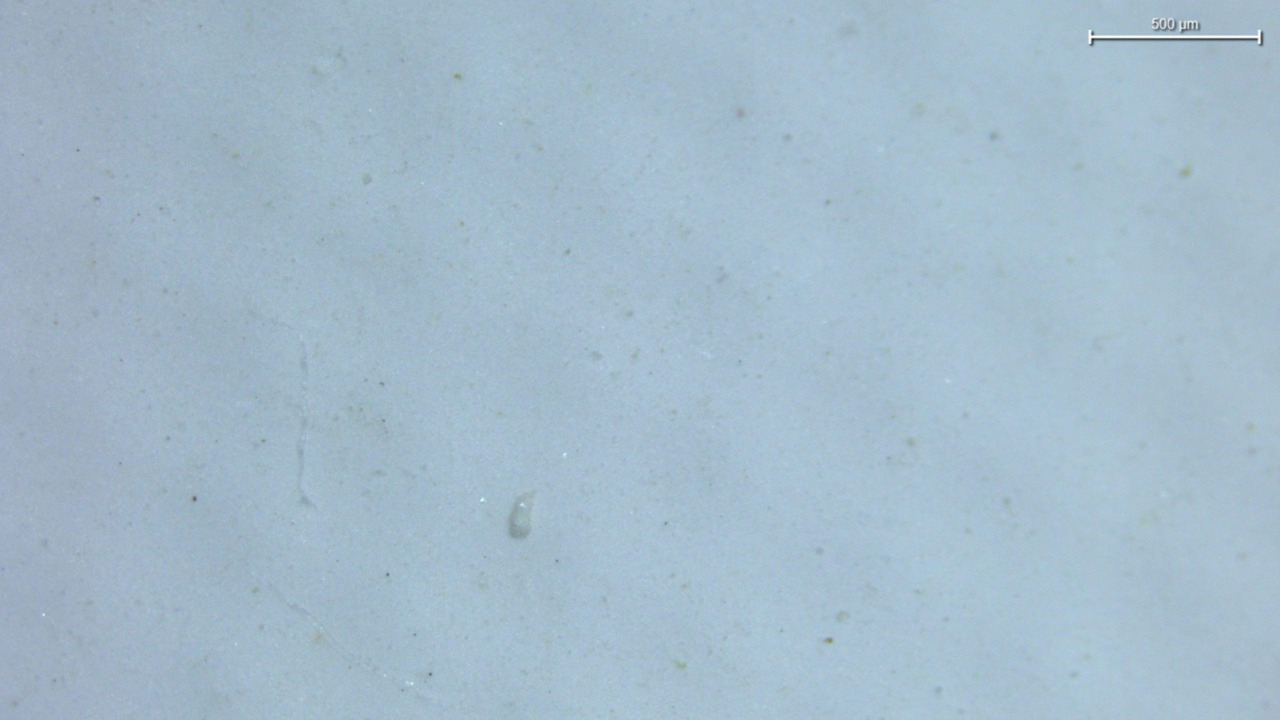microplastic_fragment: (509, 490, 535, 539)
